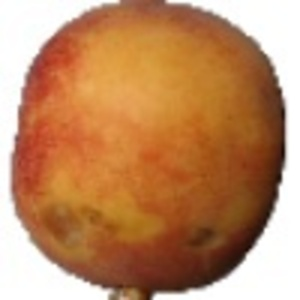pêssego: (9, 1, 289, 300)
